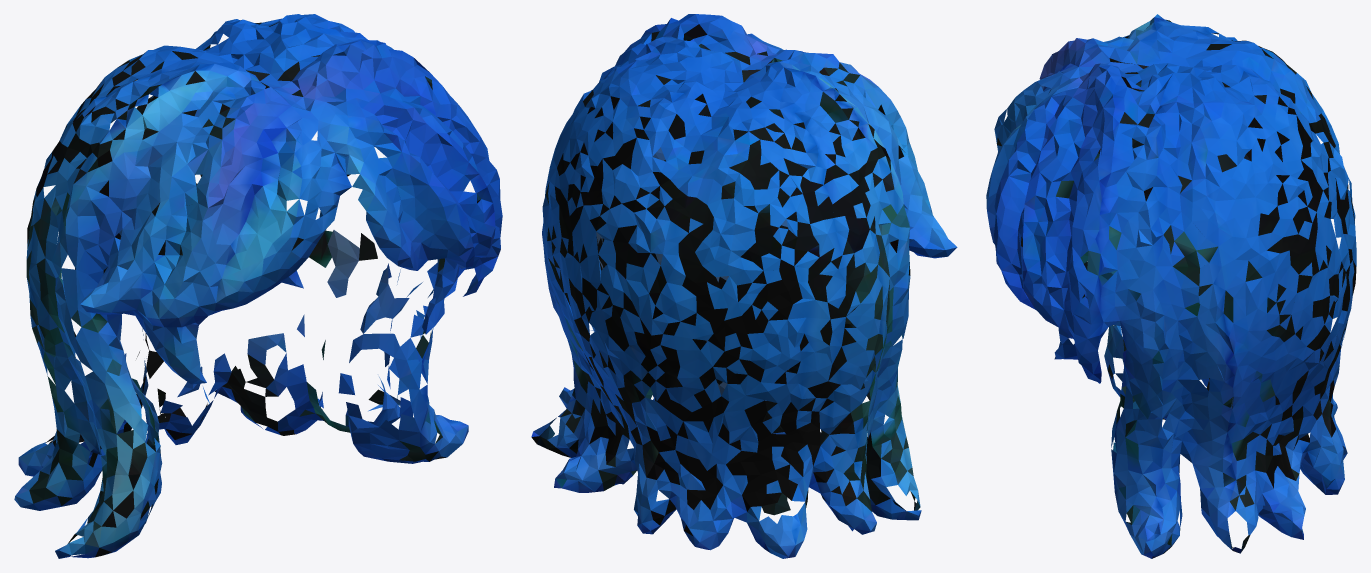
Rendered from hairstyle_057.glb.
3 views of the same model, side by side, from view 1: azimuth 30°, elevation 25°; view 2: azimuth 150°, elevation 25°; view 3: azimuth 270°, elevation 25° (orthographic). The views are drawn at different scales.
Visible parts, largest first — view 1: geometry_0_057; view 2: geometry_0_057; view 3: geometry_0_057.
Boxes of the visible parts, box(x1,y1,x2,y2) form: geometry_0_057: box(14, 14, 502, 558); geometry_0_057: box(531, 14, 957, 558); geometry_0_057: box(986, 14, 1356, 558).
Bounding box in the file's own units: 1.45 × 1.59 × 1.18.
Materials: 1 (1 with a texture image).
